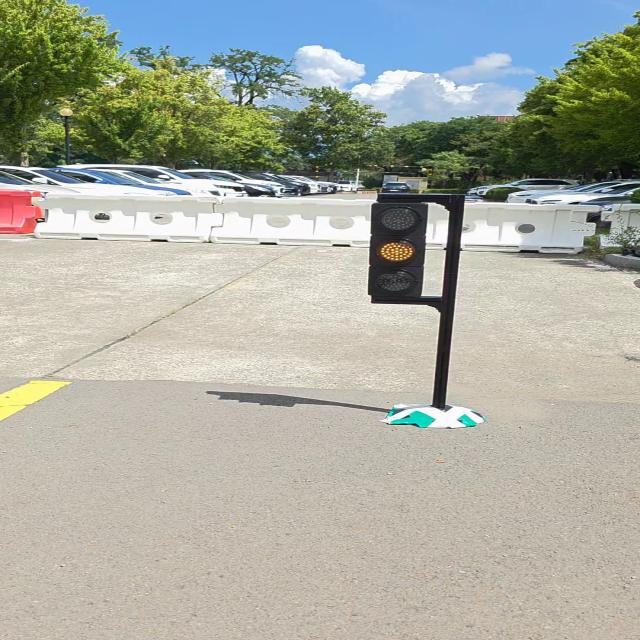yellow: (367, 200, 428, 298)
